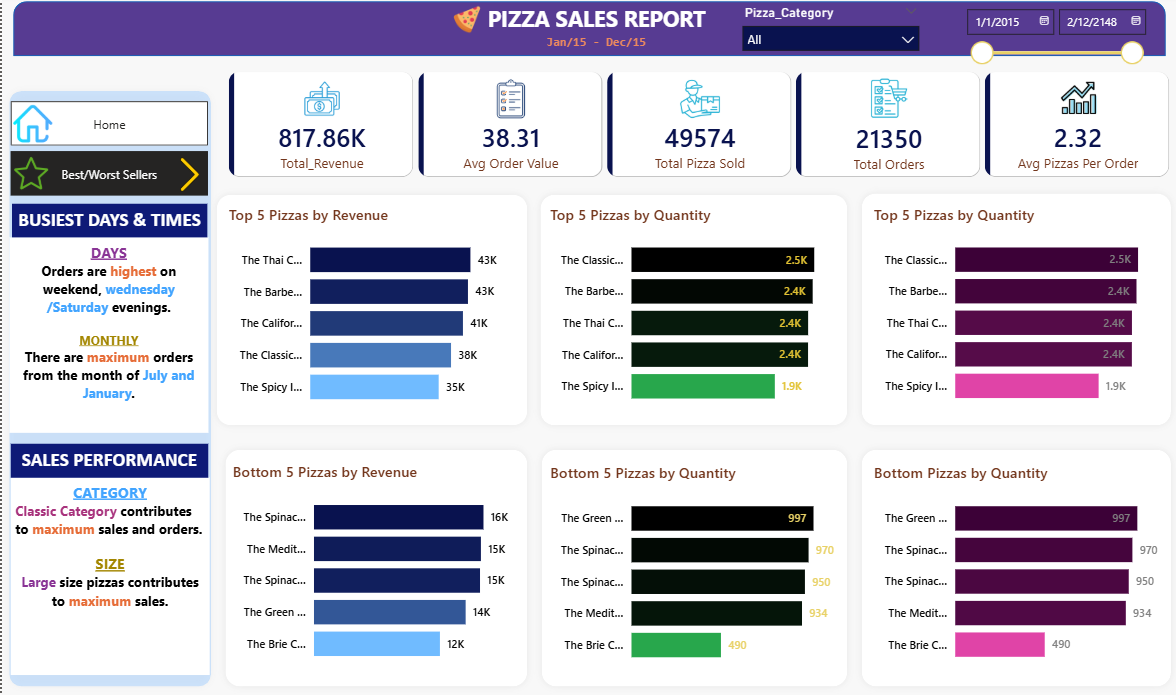

The page's visual inventory and layout, read from the dashboard file:
{"tool":"powerbi","page":{"name":"Best/Worst Sellers","canvas":[1300,800],"ordinal":1},"visuals":[{"type":"cardVisual","fields":{"Data":["pizza_sales.Total_Revenue","pizza_sales.Avg Order Value","pizza_sales.Total Pizza Sold","pizza_sales.Total Orders","pizza_sales.Avg Pizzas Per Order"]},"box":[241.9,67.7,1058.7,139.6],"z":0},{"type":"shape","box":[12.4,1.4,1274.4,60.8],"z":1000},{"type":"textbox","box":[532.1,0,264,47],"z":2000},{"type":"shape","box":[0,92.6,239.1,674.5],"z":3000},{"type":"textbox","box":[597.1,31.8,123,33.2],"z":4000},{"type":"image","box":[499,5.5,30.4,31.8],"z":5000},{"type":"shape","box":[229.4,207.3,359.4,270.9],"z":6000},{"type":"textbox","box":[11.1,225.3,215.6,37.3],"z":7000},{"type":"textbox","box":[8.3,262.6,219.8,215.6],"z":8000},{"type":"textbox","box":[9.7,528,219.8,218.4],"z":9000},{"type":"textbox","box":[9.7,490.7,218.4,37.3],"z":10000},{"type":"slicer","fields":{"Values":["pizza_sales.Pizza_Category"]},"box":[808.6,0,215.6,62.2],"z":11000},{"type":"slicer","fields":{"Values":["pizza_sales.Order_Date"]},"box":[1054.6,5.5,215.6,67.7],"z":12000},{"type":"shape","box":[587.4,207.3,355.2,270.9],"z":13000},{"type":"shape","box":[942.6,205.9,358,272.3],"z":14000},{"type":"shape","box":[239.1,489.3,349.7,277.8],"z":15000},{"type":"shape","box":[588.8,489.3,353.8,277.8],"z":16000},{"type":"shape","box":[942.6,489.3,358,277.8],"z":17000},{"type":"barChart","title":"Top 5 Pizzas by Revenue","fields":{"Category":["pizza_sales.Pizza_Name"],"Y":["pizza_sales.Total_Revenue"]},"box":[246,225.3,326.2,236.4],"z":18000},{"type":"barChart","title":"Bottom 5 Pizzas by Revenue","fields":{"Category":["pizza_sales.Pizza_Name"],"Y":["pizza_sales.Total_Revenue"]},"box":[250.9,510.1,326.1,235.5],"z":19000},{"type":"barChart","title":"Top 5 Pizzas by Quantity","fields":{"Category":["pizza_sales.Pizza_Name"],"Y":["pizza_sales.Total Pizza Sold"]},"box":[600.7,225.8,326.1,235.5],"z":20000},{"type":"barChart","title":"Bottom 5 Pizzas by Quantity","fields":{"Category":["pizza_sales.Pizza_Name"],"Y":["pizza_sales.Total Pizza Sold"]},"box":[600.7,511.5,326.1,235.5],"z":21000},{"type":"barChart","title":"Top 5 Pizzas by Quantity","fields":{"Category":["pizza_sales.Pizza_Name"],"Y":["pizza_sales.Total Pizza Sold"]},"box":[959.2,225.3,326.2,235],"z":22000},{"type":"barChart","title":"Bottom Pizzas by Quantity","fields":{"Category":["pizza_sales.Pizza_Name"],"Y":["pizza_sales.Total Pizza Sold"]},"box":[959.2,511.4,326.2,235],"z":23000},{"type":"pageNavigator","box":[9.7,112,218.4,49.8],"z":24000},{"type":"pageNavigator","box":[9.7,167.2,218.4,49.8],"z":25000},{"type":"image","box":[188,174.2,38.7,37.3],"z":26000},{"type":"image","box":[12.4,112,42.8,49.8],"z":27000},{"type":"image","box":[11.1,172.8,42.8,37.3],"z":28000}]}

Visuals, with their boxes on the page's 1300x800 design canvas (x1, y1, x2, y2). These are canvas units, not pixel positions in the 1176x695 screenshot, which may show the page scaled, cropped or inside an application window:
cardVisual - pizza_sales.Total_Revenue x pizza_sales.Avg Order Value: pyautogui.locateOnScreen(242, 68, 1301, 207)
shape: pyautogui.locateOnScreen(12, 1, 1287, 62)
textbox: pyautogui.locateOnScreen(532, 0, 796, 47)
shape: pyautogui.locateOnScreen(0, 93, 239, 767)
textbox: pyautogui.locateOnScreen(597, 32, 720, 65)
image: pyautogui.locateOnScreen(499, 6, 529, 37)
shape: pyautogui.locateOnScreen(229, 207, 589, 478)
textbox: pyautogui.locateOnScreen(11, 225, 227, 263)
textbox: pyautogui.locateOnScreen(8, 263, 228, 478)
textbox: pyautogui.locateOnScreen(10, 528, 230, 746)
textbox: pyautogui.locateOnScreen(10, 491, 228, 528)
slicer - pizza_sales.Pizza_Category: pyautogui.locateOnScreen(809, 0, 1024, 62)
slicer - pizza_sales.Order_Date: pyautogui.locateOnScreen(1055, 6, 1270, 73)
shape: pyautogui.locateOnScreen(587, 207, 943, 478)
shape: pyautogui.locateOnScreen(943, 206, 1301, 478)
shape: pyautogui.locateOnScreen(239, 489, 589, 767)
shape: pyautogui.locateOnScreen(589, 489, 943, 767)
shape: pyautogui.locateOnScreen(943, 489, 1301, 767)
"Top 5 Pizzas by Revenue" barChart: pyautogui.locateOnScreen(246, 225, 572, 462)
"Bottom 5 Pizzas by Revenue" barChart: pyautogui.locateOnScreen(251, 510, 577, 746)
"Top 5 Pizzas by Quantity" barChart: pyautogui.locateOnScreen(601, 226, 927, 461)
"Bottom 5 Pizzas by Quantity" barChart: pyautogui.locateOnScreen(601, 512, 927, 747)
"Top 5 Pizzas by Quantity" barChart: pyautogui.locateOnScreen(959, 225, 1285, 460)
"Bottom Pizzas by Quantity" barChart: pyautogui.locateOnScreen(959, 511, 1285, 746)
pageNavigator: pyautogui.locateOnScreen(10, 112, 228, 162)
pageNavigator: pyautogui.locateOnScreen(10, 167, 228, 217)
image: pyautogui.locateOnScreen(188, 174, 227, 212)
image: pyautogui.locateOnScreen(12, 112, 55, 162)
image: pyautogui.locateOnScreen(11, 173, 54, 210)
